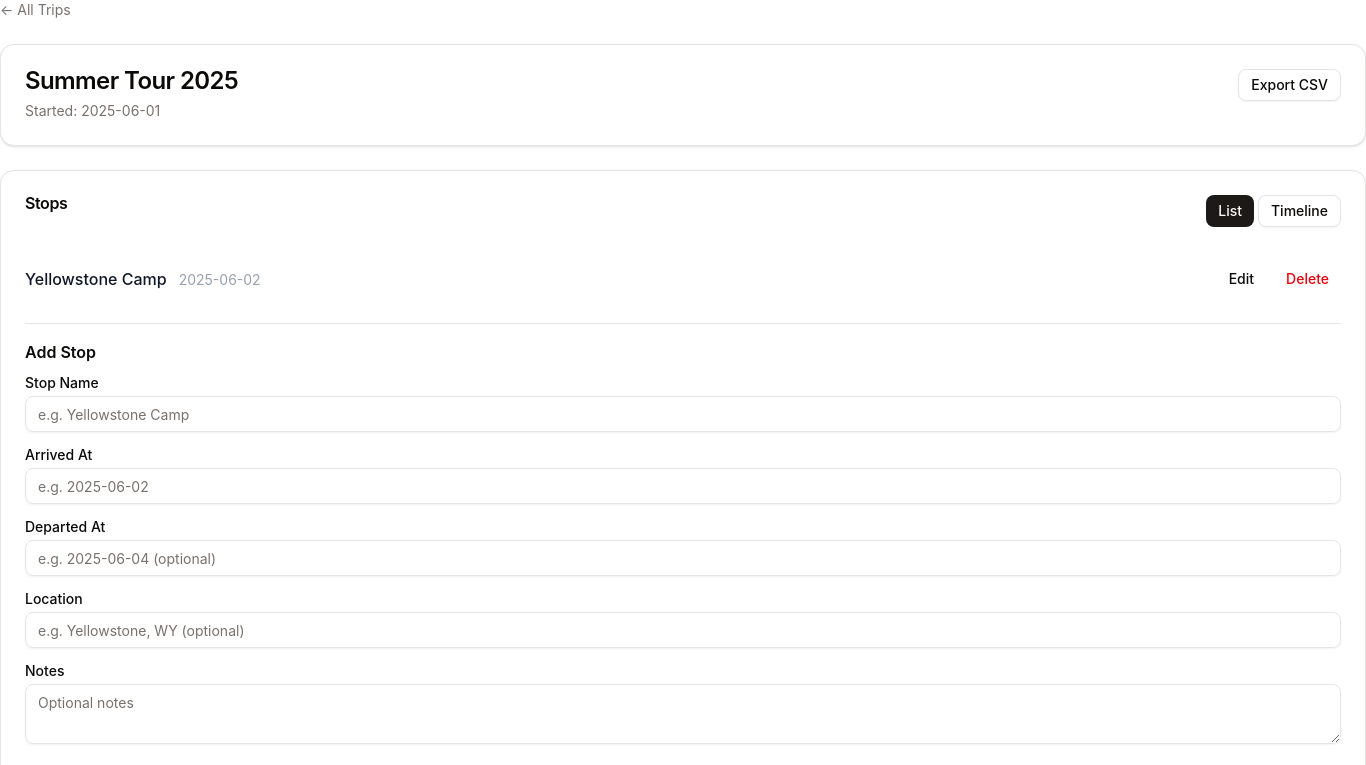
Test: TripDetailPage › returns to the add stop form when Cancel is clicked in edit mode
The width and height of the screenshot is (1366, 765).
Click the button with aria-label "edit yellowstone camp" at (1241, 279), box x1=1217 y1=263 x2=1266 y2=295
(page scrolled)
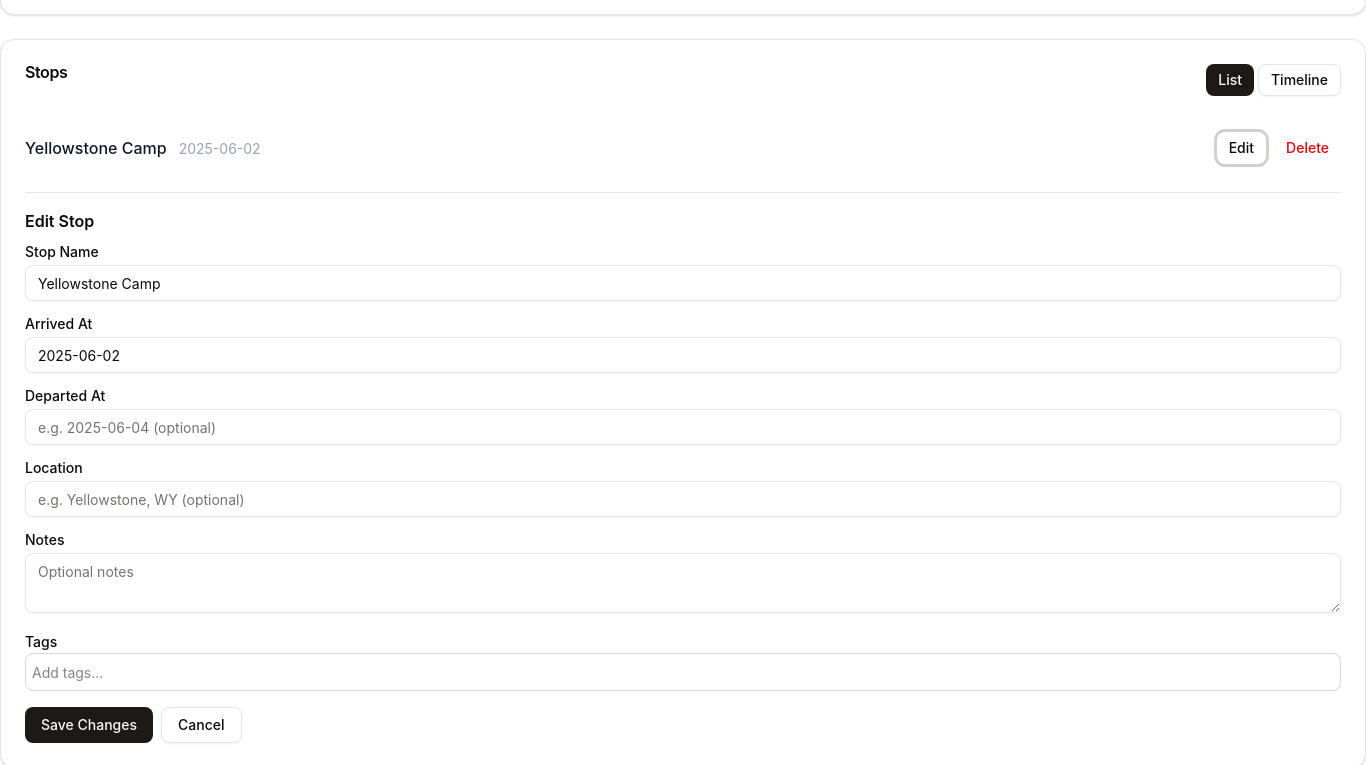
Click the button "Cancel" at (201, 725), box x1=161 y1=707 x2=242 y2=743
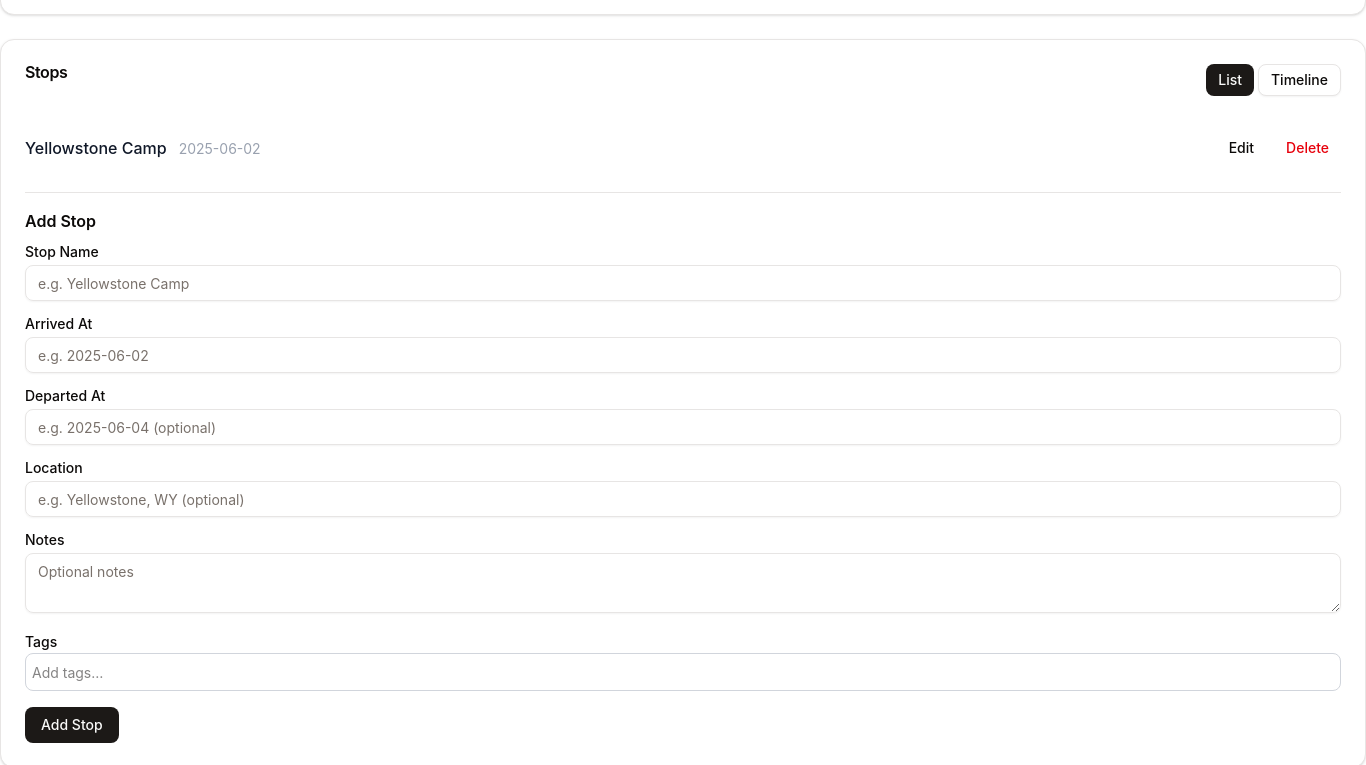
Now the button "Add Stop" is shown, box x1=25 y1=707 x2=119 y2=743
